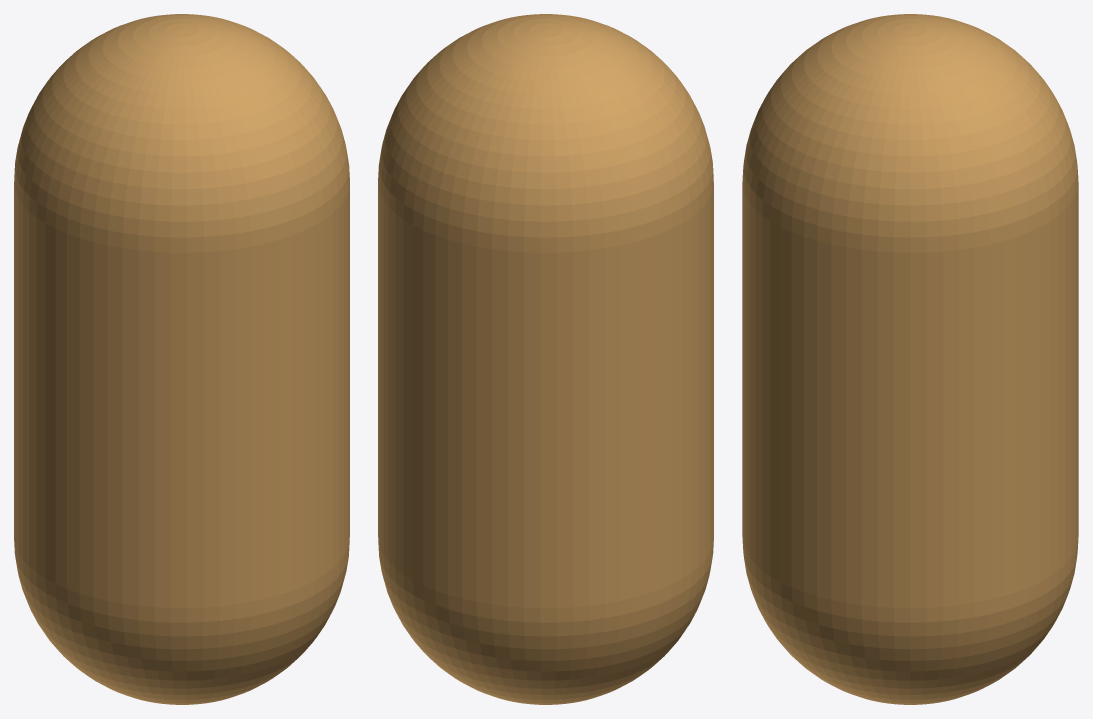
The model's file is prop_capsule_orange.glb.
3 views of the same model, side by side, from view 1: azimuth 30°, elevation 25°; view 2: azimuth 150°, elevation 25°; view 3: azimuth 270°, elevation 25° (orthographic).
Parts seen in each view (by area): view 1: geometry_0; view 2: geometry_0; view 3: geometry_0.
Boxes of the visible parts, x1,y1,x2,y2 form: geometry_0: (14,14,349,704); geometry_0: (378,14,713,704); geometry_0: (742,14,1078,704).
Bounding box in the file's own units: 0.3 × 0.65 × 0.3.
